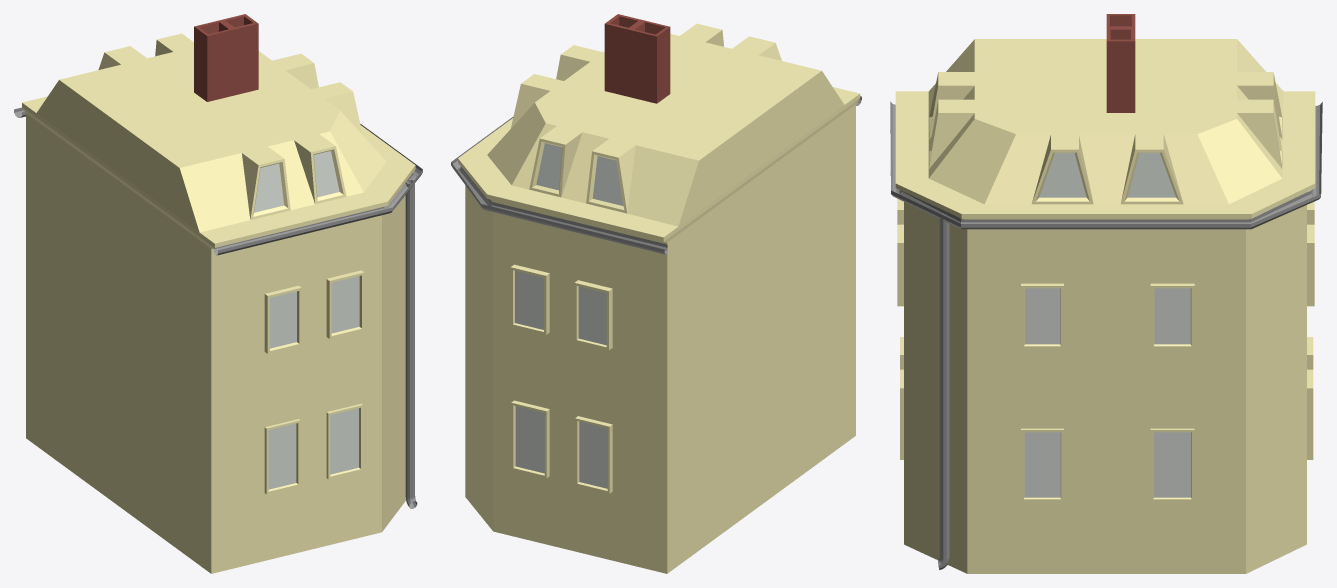
Rendered from house.fbx.
The picture shows the model from 3 angles, left to right: view 1: azimuth 30°, elevation 25°; view 2: azimuth 150°, elevation 25°; view 3: azimuth 270°, elevation 25°; orthographic projection. The views are drawn at different scales.
Visible parts, largest first — view 1: Cylinder; view 2: Cylinder; view 3: Cylinder.
Boxes of the visible parts, <box> form: Cylinder: <box>14,14,422,573</box>; Cylinder: <box>451,14,861,573</box>; Cylinder: <box>890,14,1322,573</box>.
Bounding box in the file's own units: 500 × 884 × 710.
